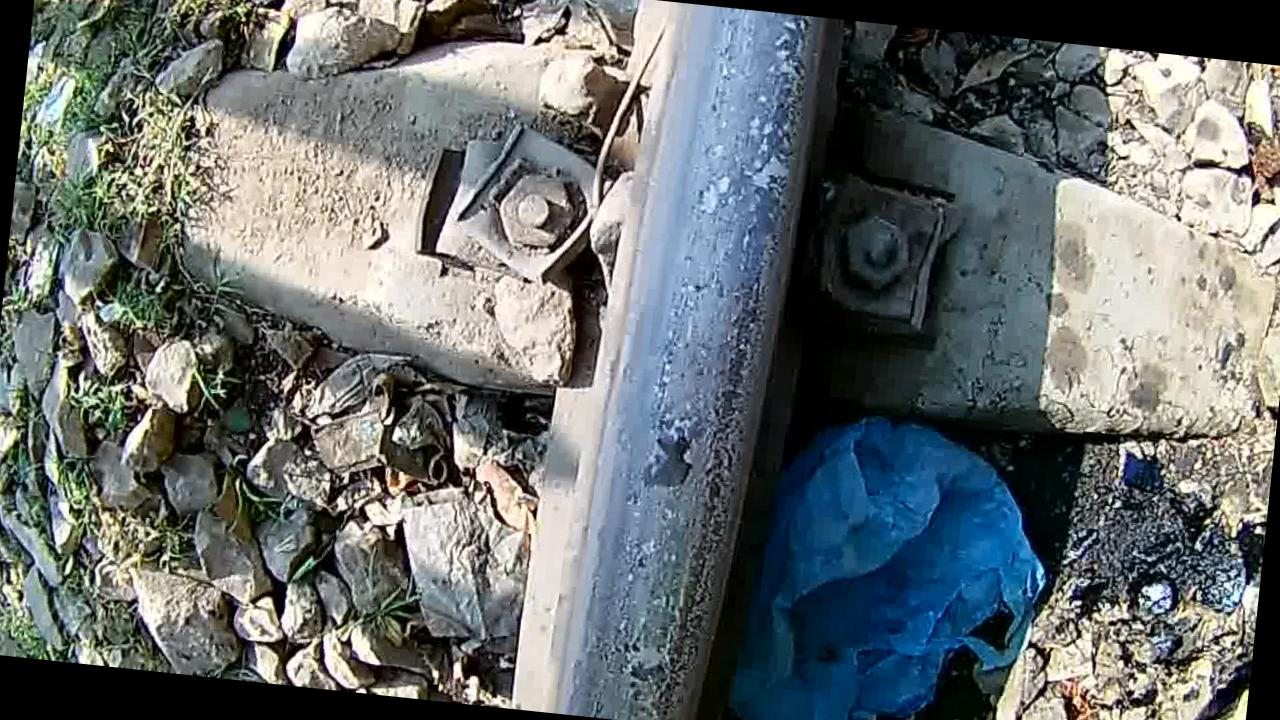crack: (576, 0, 820, 720)
